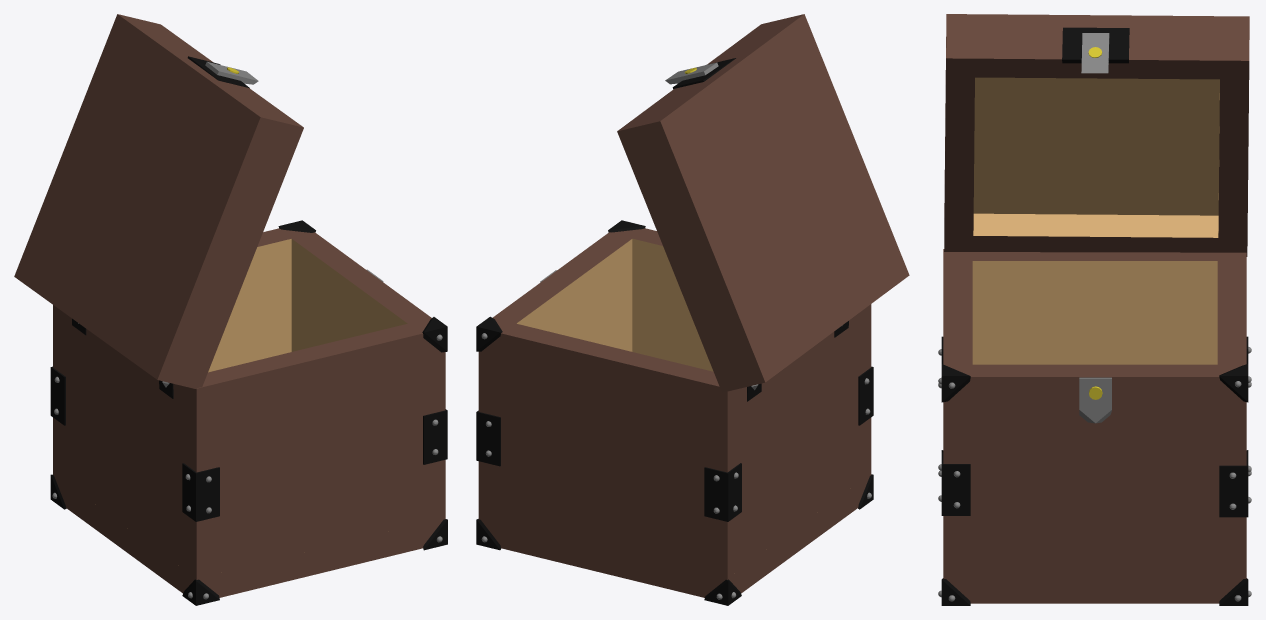
3 renders of one model, left to right at view 1: azimuth 30°, elevation 25°; view 2: azimuth 150°, elevation 25°; view 3: azimuth 270°, elevation 25°, orthographic. The views are drawn at different scales.
Parts seen in each view (by area): view 1: node_MeshObject-876336128-PolyPaper21; view 2: node_MeshObject-876336128-PolyPaper21; view 3: node_MeshObject-876336128-PolyPaper21.
Part boxes in pixels (x1,y1,x2,y2): node_MeshObject-876336128-PolyPaper21: (14,14,447,605); node_MeshObject-876336128-PolyPaper21: (476,14,909,605); node_MeshObject-876336128-PolyPaper21: (938,14,1251,605).
Size of the model in its own units: 2.08 by 3.2 by 1.83.
